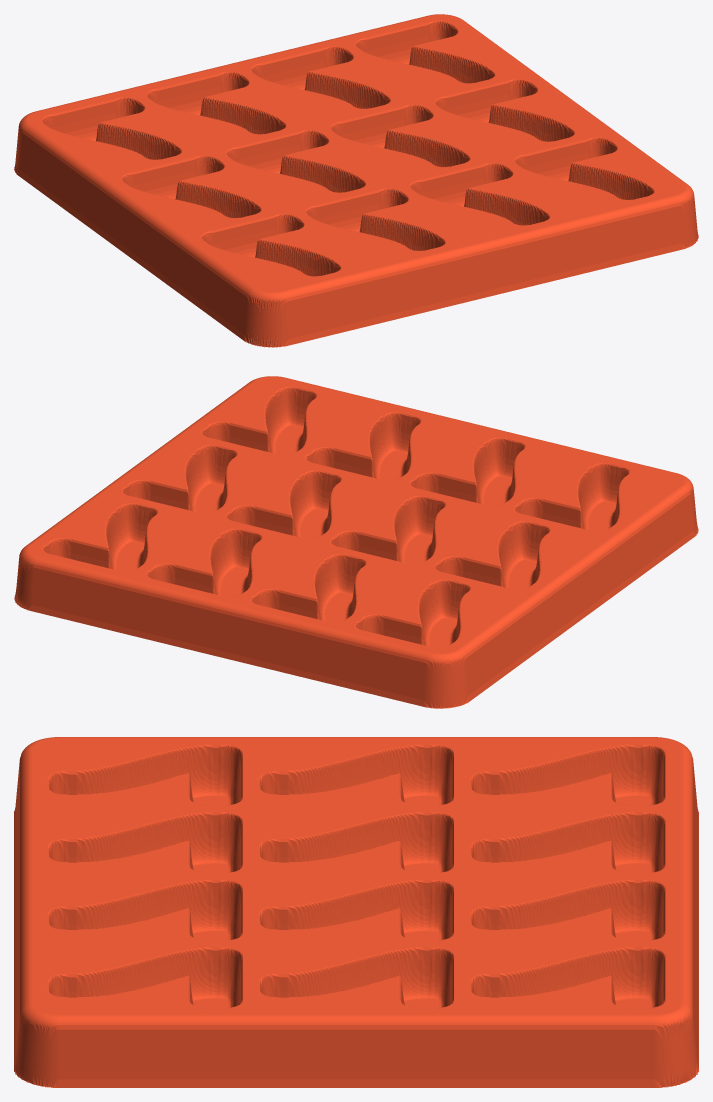
Rendered from mold.glb.
3 views of the same model, one above another, from view 1: azimuth 30°, elevation 25°; view 2: azimuth 150°, elevation 25°; view 3: azimuth 270°, elevation 25° (orthographic). The views are drawn at different scales.
Visible parts, largest first — view 1: geometry_0; view 2: geometry_0; view 3: geometry_0.
Boxes of the visible parts, x1,y1,x2,y2 form: geometry_0: (14,14,698,347); geometry_0: (14,376,698,708); geometry_0: (14,737,698,1087).
Size of the model in its own units: 0.1386 by 0.0145 by 0.1374.
